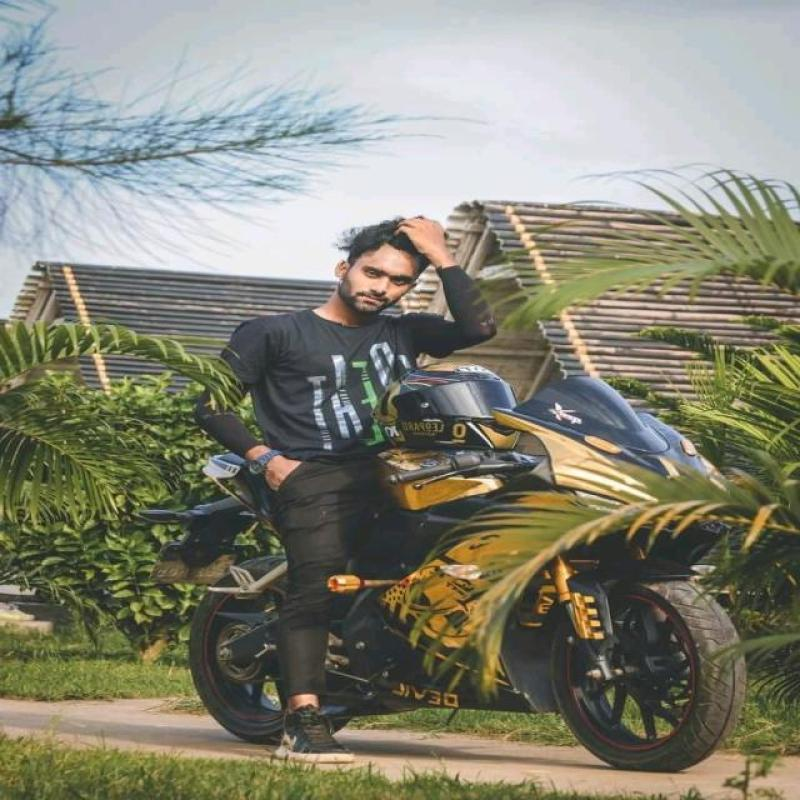nohelmet: (338, 212, 443, 326)
